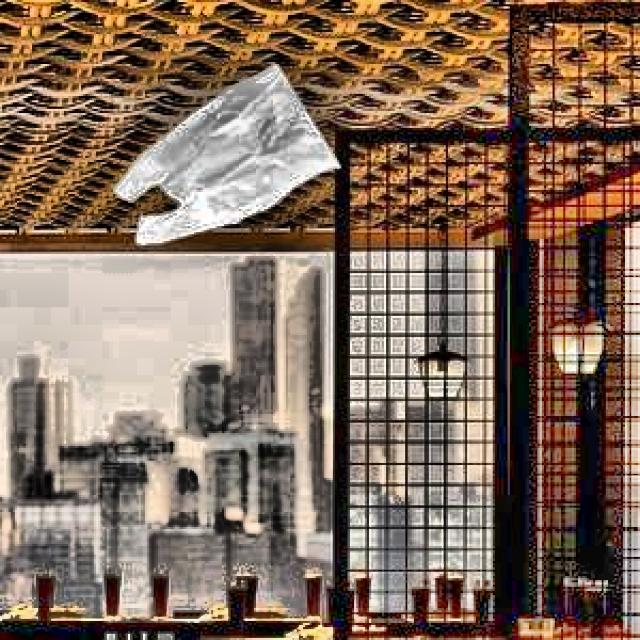Plastic: (100, 62, 344, 255)
